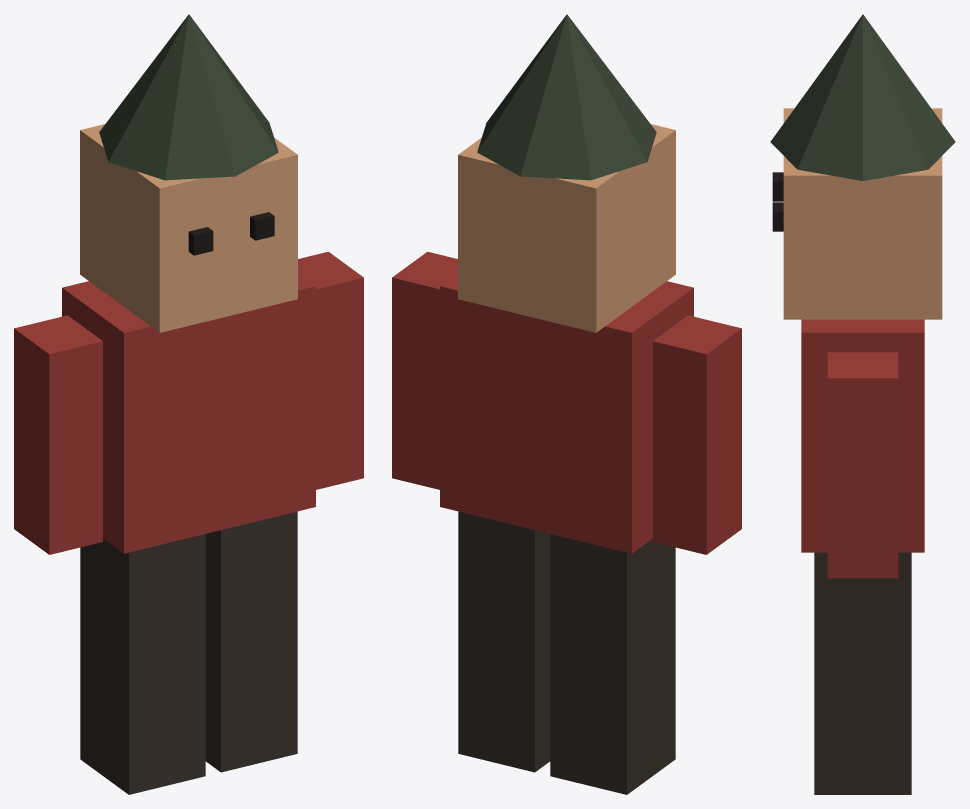
The model's file is woodcutter.obj.
3 views of the same model, side by side, from view 1: azimuth 30°, elevation 25°; view 2: azimuth 150°, elevation 25°; view 3: azimuth 270°, elevation 25° (orthographic).
Visible parts, largest first — view 1: part_0, part_1, part_5, part_6, part_7, part_4, part_8, part_2, part_3; view 2: part_0, part_1, part_5, part_6, part_7, part_4, part_8; view 3: part_1, part_6, part_4, part_8, part_0, part_2, part_3.
Part boxes in pixels (x1=…): part_0: x1=62, y1=273, x2=315, y2=553; part_1: x1=80, y1=124, x2=297, y2=332; part_5: x1=80, y1=534, x2=205, y2=794; part_6: x1=205, y1=511, x2=297, y2=772; part_7: x1=14, y1=315, x2=102, y2=554; part_4: x1=99, y1=14, x2=278, y2=180; part_8: x1=298, y1=251, x2=363, y2=489; part_2: x1=188, y1=227, x2=213, y2=255; part_3: x1=250, y1=212, x2=274, y2=240; part_0: x1=440, y1=273, x2=693, y2=553; part_1: x1=458, y1=124, x2=675, y2=332; part_5: x1=550, y1=534, x2=675, y2=794; part_6: x1=458, y1=511, x2=550, y2=772; part_7: x1=653, y1=315, x2=741, y2=554; part_4: x1=477, y1=14, x2=656, y2=180; part_8: x1=392, y1=251, x2=457, y2=489; part_1: x1=783, y1=108, x2=942, y2=319; part_6: x1=814, y1=552, x2=911, y2=794; part_4: x1=770, y1=14, x2=955, y2=180; part_8: x1=827, y1=352, x2=898, y2=578; part_0: x1=801, y1=319, x2=924, y2=552; part_2: x1=772, y1=172, x2=783, y2=201; part_3: x1=772, y1=202, x2=783, y2=231.
Bounding box in the file's own units: 0.82 × 1.85 × 0.42.
